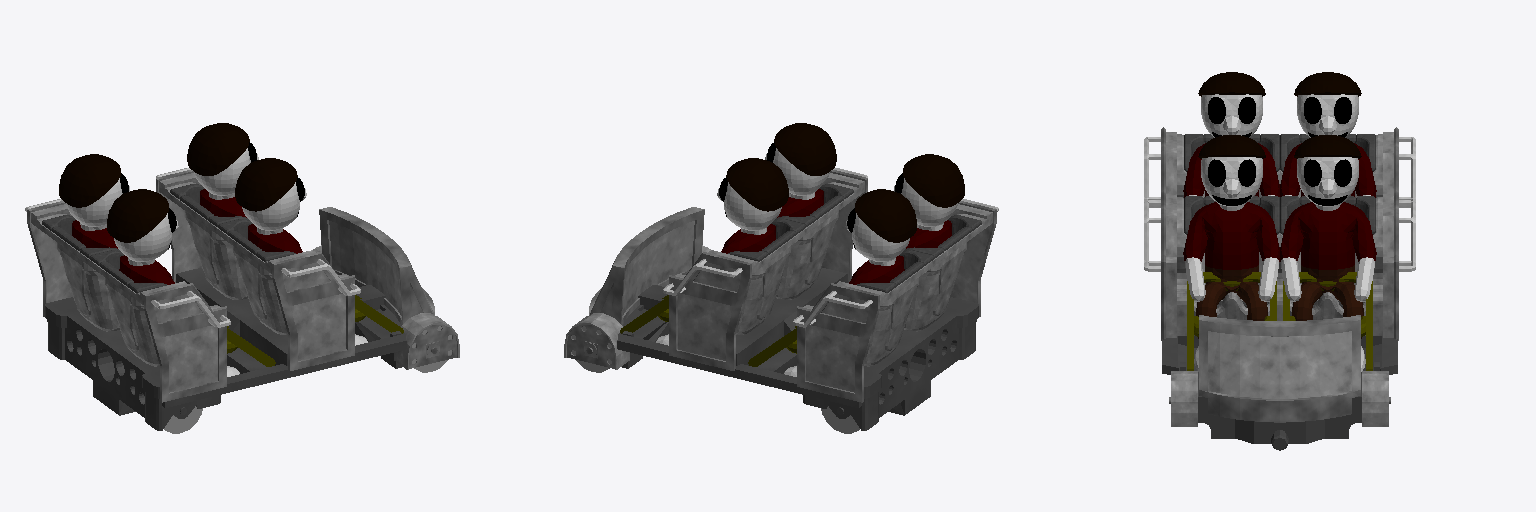
3 renders of one model, left to right at view 1: azimuth 30°, elevation 25°; view 2: azimuth 150°, elevation 25°; view 3: azimuth 270°, elevation 25°, orthographic.
Size of the model in its own units: 2.29 by 1.46 by 1.58.
15 materials, 5 textured.